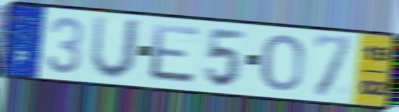3: (45, 15, 85, 75)
5: (203, 26, 248, 89)
7: (311, 32, 357, 101)
E: (148, 22, 203, 86)
O: (260, 33, 306, 93)
U: (88, 14, 144, 83)
